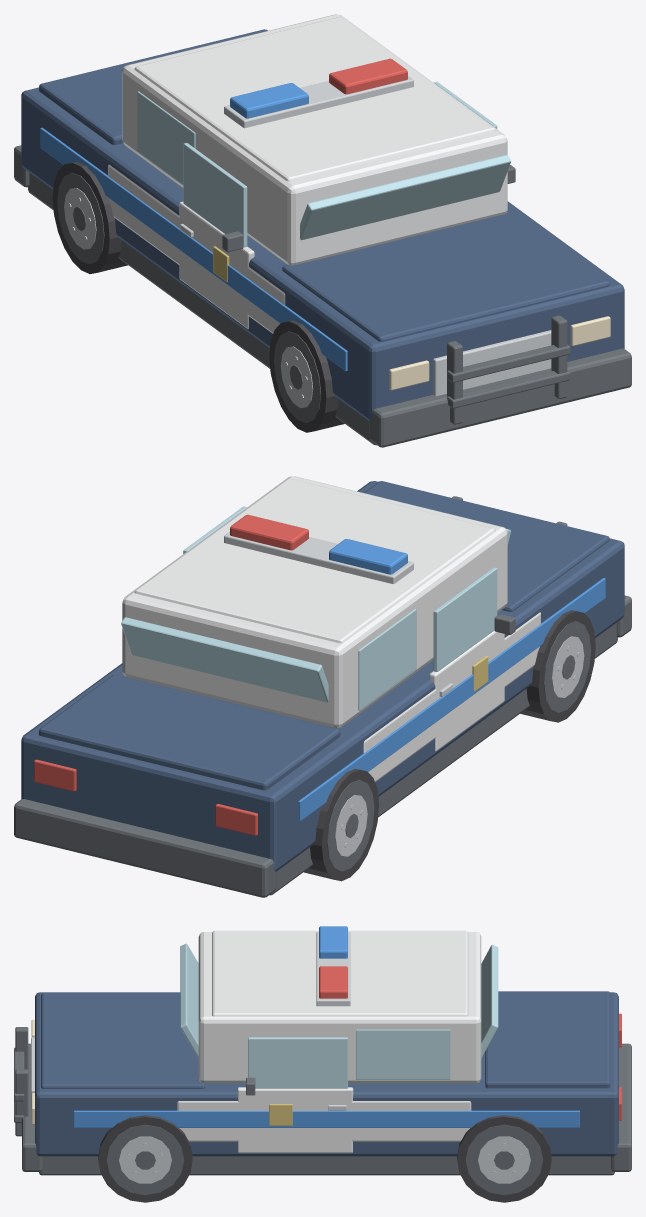
Rendered from SM_PoliceCar.fbx.
3 views of the same model, one above another, from view 1: azimuth 30°, elevation 25°; view 2: azimuth 150°, elevation 25°; view 3: azimuth 270°, elevation 25° (orthographic). The views are drawn at different scales.
Parts seen in each view (by area): view 1: PoliceCar_Body, Door_FL_Hinge, Wheel_FL_Pivot, Wheel_RL_Pivot, Lightbar_Frame, Beacon_Red_Lens, Beacon_Blue_Lens, Headlight_R_Lens, Headlight_L_Lens; view 2: PoliceCar_Body, Door_FL_Hinge, Wheel_RL_Pivot, Wheel_FL_Pivot, Lightbar_Frame, Beacon_Red_Lens, Beacon_Blue_Lens, Taillight_R_Lens, Taillight_L_Lens; view 3: PoliceCar_Body, Door_FR_Hinge, Wheel_FR_Pivot, Wheel_RR_Pivot, Lightbar_Frame, Beacon_Blue_Lens, Beacon_Red_Lens.
Boxes of the visible parts, <box> form: PoliceCar_Body: <box>14,14,631,447</box>; Door_FL_Hinge: <box>179,143,254,329</box>; Wheel_FL_Pivot: <box>269,320,344,432</box>; Wheel_RL_Pivot: <box>52,161,127,273</box>; Lightbar_Frame: <box>224,76,413,128</box>; Beacon_Red_Lens: <box>329,58,407,94</box>; Beacon_Blue_Lens: <box>230,83,308,118</box>; Headlight_R_Lens: <box>570,316,610,345</box>; Headlight_L_Lens: <box>389,360,429,390</box>; PoliceCar_Body: <box>14,476,631,897</box>; Door_FL_Hinge: <box>429,567,515,751</box>; Wheel_RL_Pivot: <box>304,769,378,881</box>; Wheel_FL_Pivot: <box>520,610,595,722</box>; Lightbar_Frame: <box>224,532,413,584</box>; Beacon_Red_Lens: <box>230,514,308,550</box>; Beacon_Blue_Lens: <box>329,539,407,574</box>; Taillight_R_Lens: <box>34,759,76,791</box>; Taillight_L_Lens: <box>215,804,257,835</box>; PoliceCar_Body: <box>14,930,631,1175</box>; Door_FR_Hinge: <box>237,1037,353,1153</box>; Wheel_FR_Pivot: <box>98,1115,192,1202</box>; Wheel_RR_Pivot: <box>457,1115,551,1202</box>; Lightbar_Frame: <box>316,932,350,1006</box>; Beacon_Blue_Lens: <box>319,926,347,958</box>; Beacon_Red_Lens: <box>319,966,347,998</box>.
Size of the model in its own units: 210 by 470 by 159.
